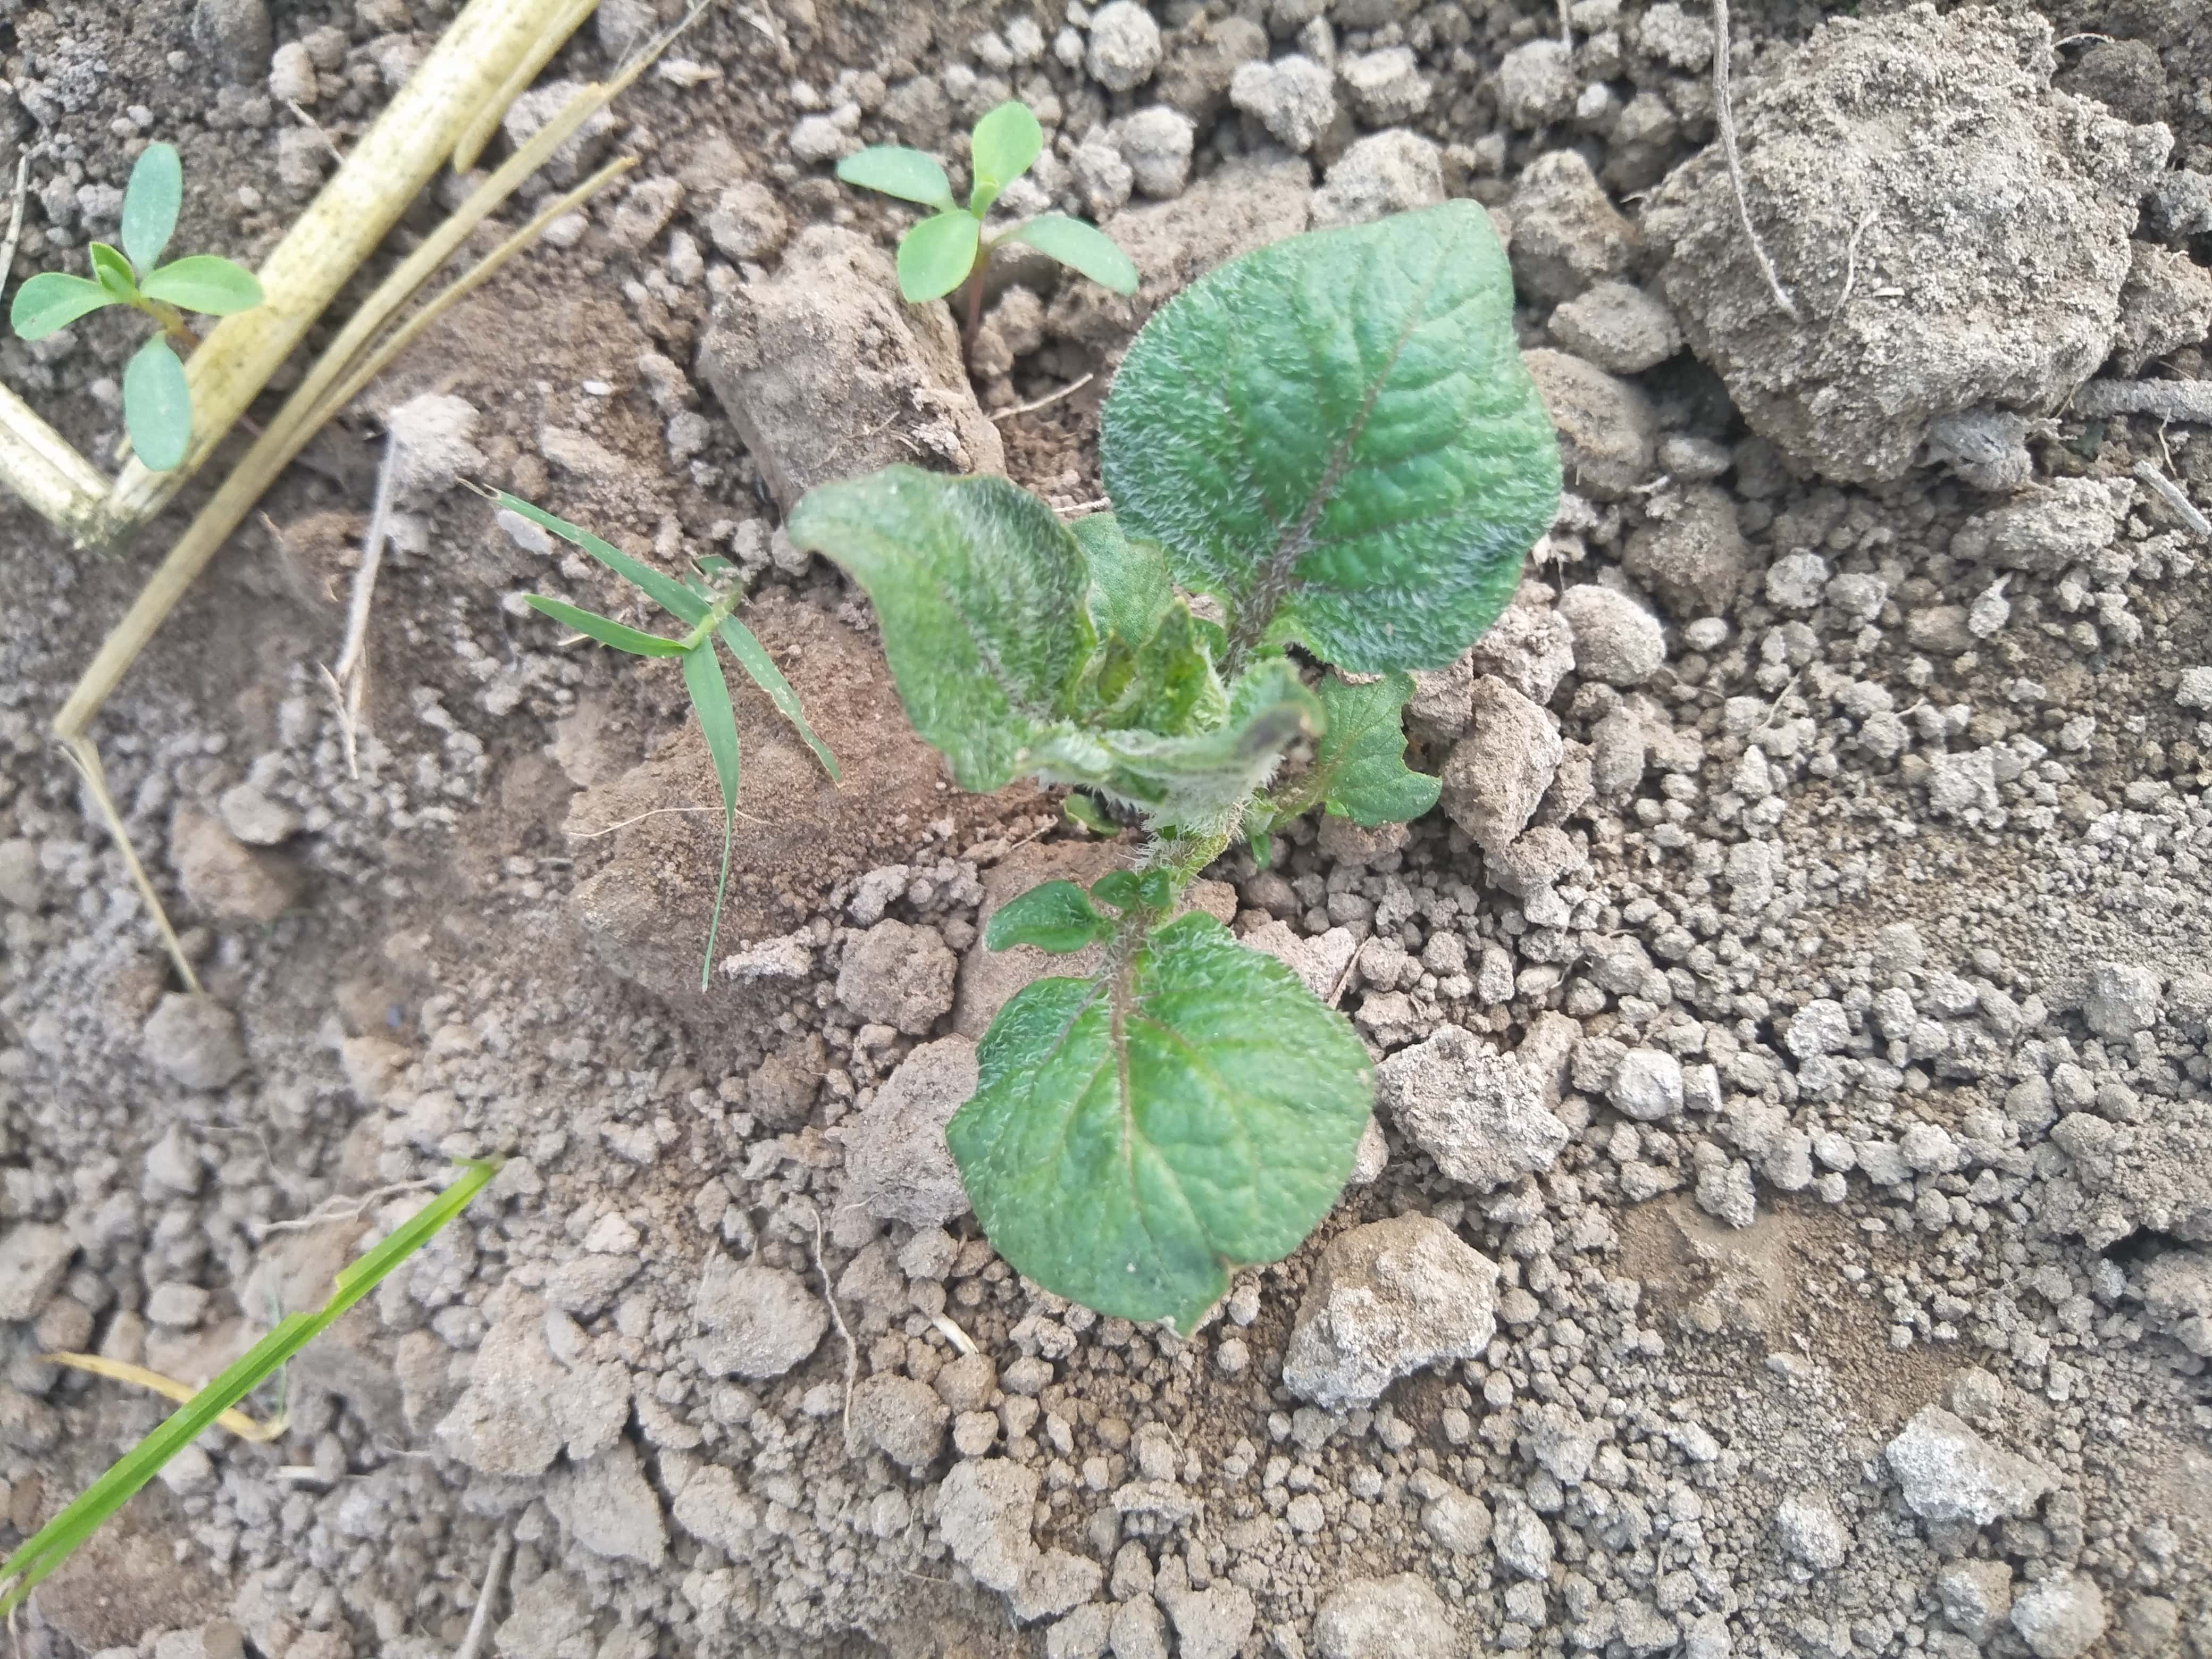daun: (1116, 195, 1545, 645), (963, 951, 1350, 1312), (782, 476, 1090, 774), (1122, 655, 1298, 814), (1301, 685, 1440, 816), (981, 873, 1116, 958)
